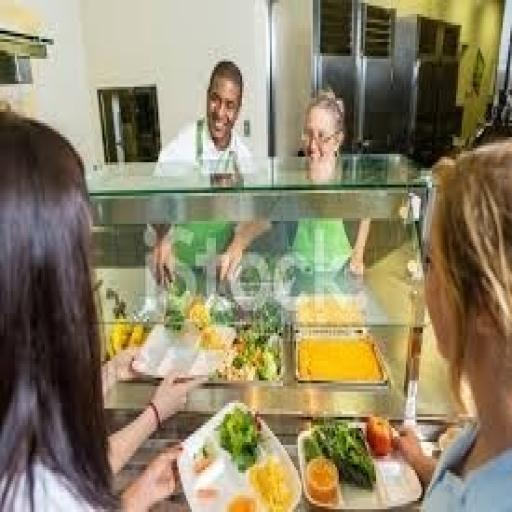eating: (0, 106, 209, 510)
